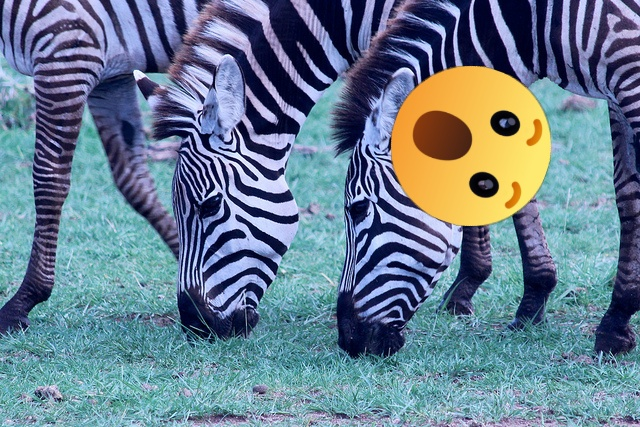wow: (391, 66, 551, 226)
